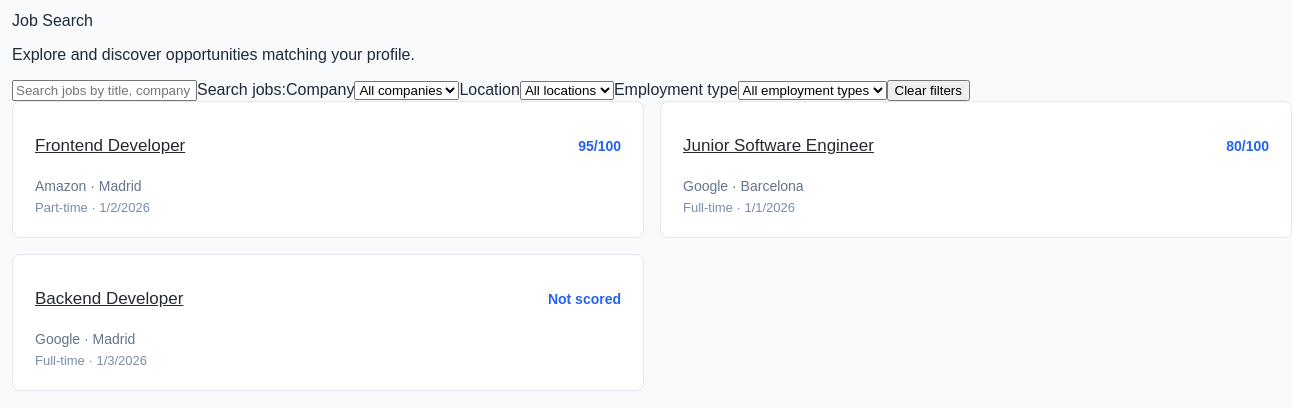
Scenario: JobSearch › filters jobs by employment type
The image size is (1292, 408).
Expected: the link "Junior Software Engineer" is shown, x1=683 y1=136 x2=874 y2=156
Select "Part-time" in the dropdown labelled "Employment type": (812, 90) x1=738 y1=81 x2=886 y2=100
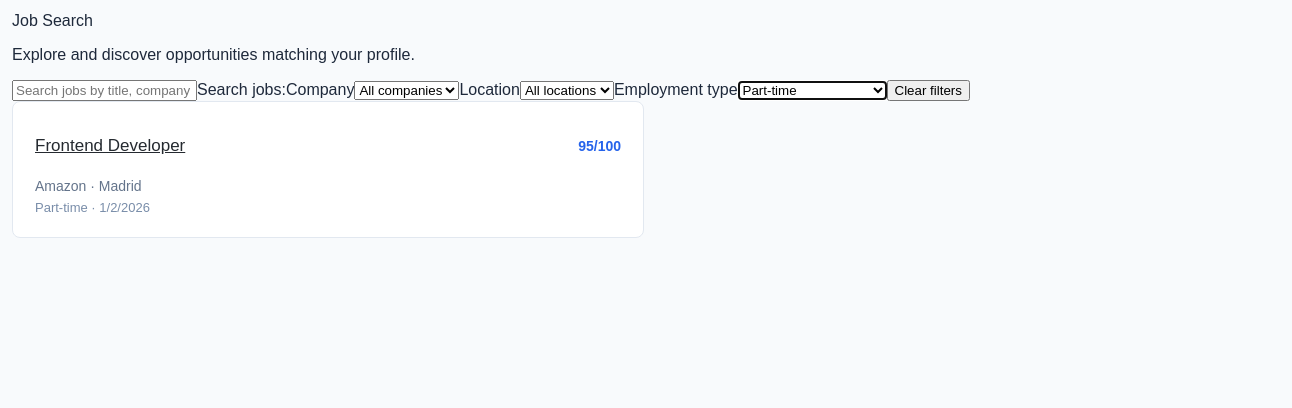
Expected: the link "Frontend Developer" is shown, x1=35 y1=136 x2=185 y2=156
Expected: the link "Junior Software Engineer" is gone
Expected: the link "Backend Developer" is gone
